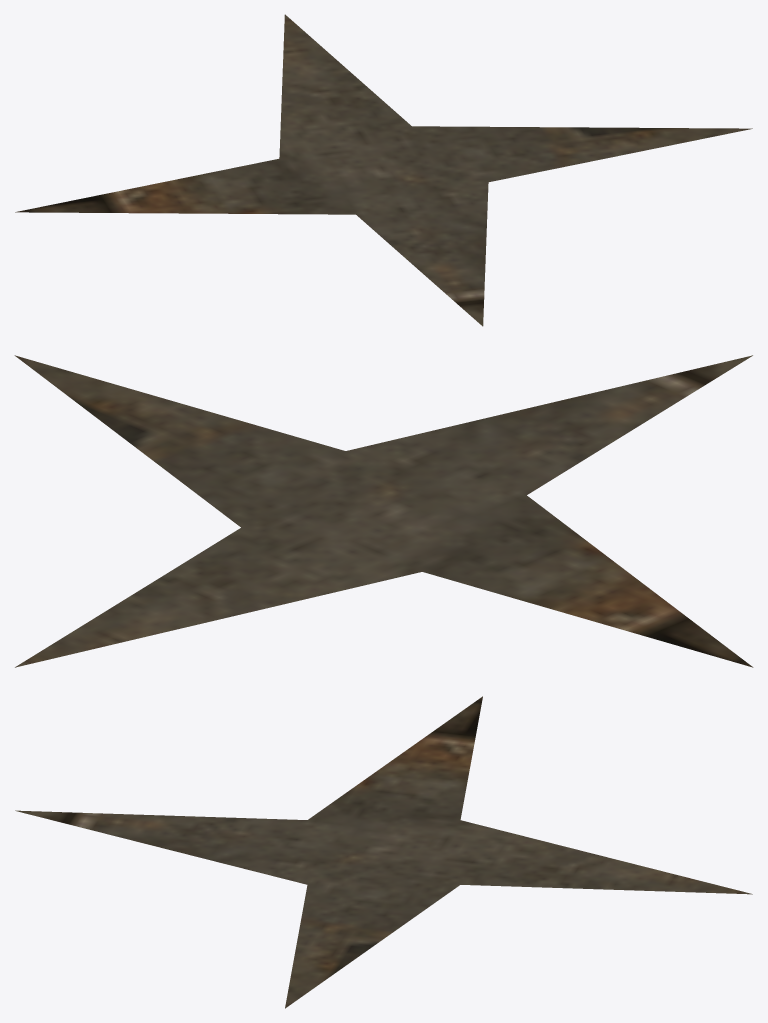
File: Fan.fbx
The picture shows the model from 3 angles, top to bottom: view 1: azimuth 30°, elevation 25°; view 2: azimuth 150°, elevation 25°; view 3: azimuth 270°, elevation 25°; orthographic projection. The views are drawn at different scales.
Parts seen in each view (by area): view 1: Plane; view 2: Plane; view 3: Plane.
Boxes of the visible parts, <box> form: Plane: <box>15,14,752,326</box>; Plane: <box>14,355,753,667</box>; Plane: <box>15,696,752,1008</box>.
Bounding box in the file's own units: 132 × 3.89 × 132.
